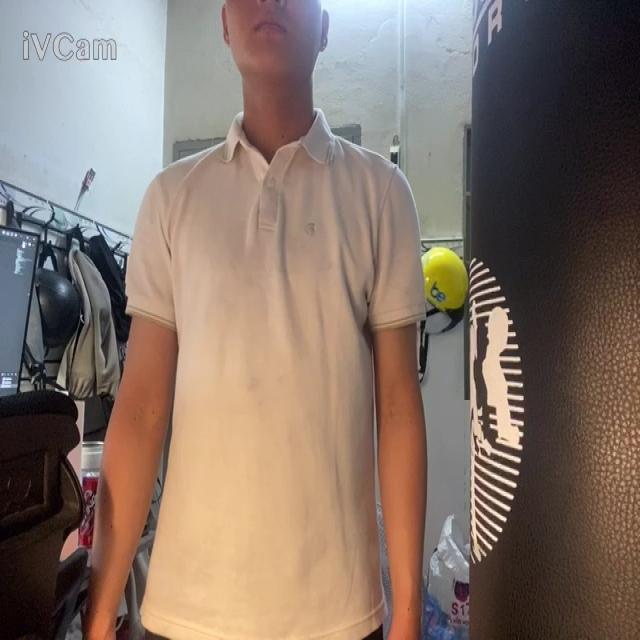u: (127, 111, 424, 639)
